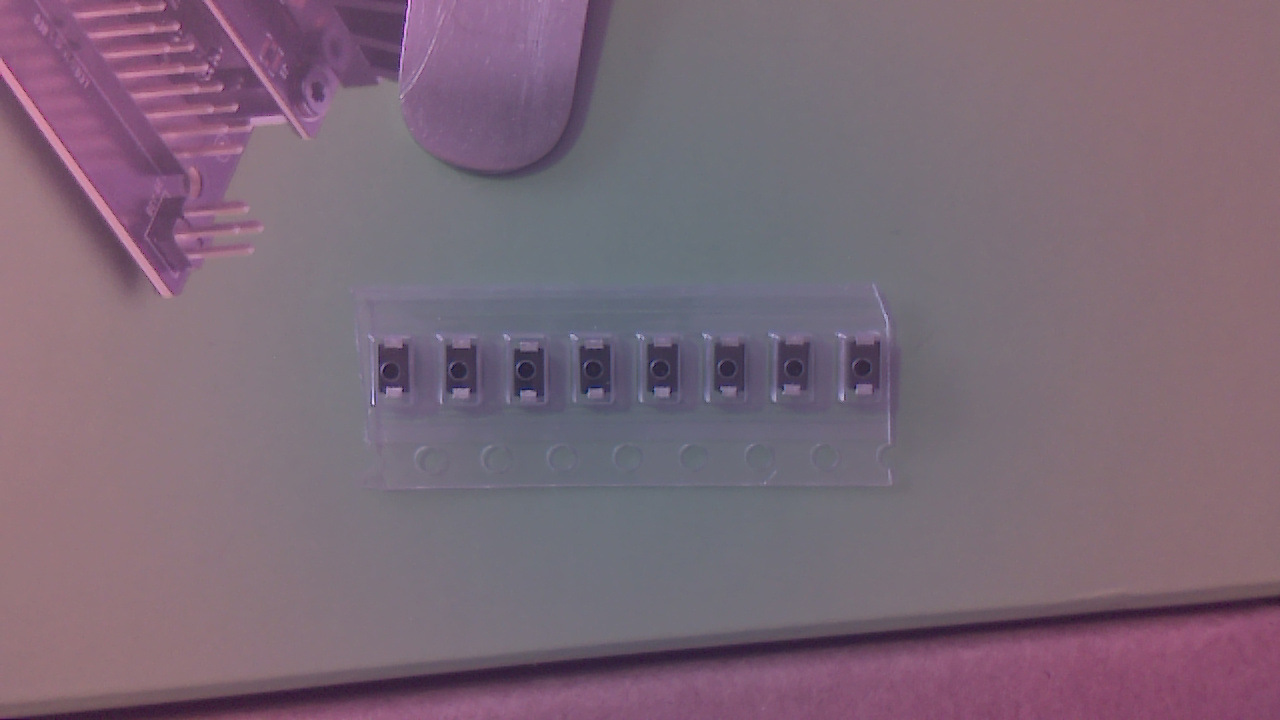Diode: (649, 338, 687, 409), (582, 339, 620, 408), (380, 341, 418, 407), (715, 337, 751, 406), (849, 338, 888, 401), (450, 342, 486, 409), (780, 338, 816, 402), (518, 342, 553, 407)
